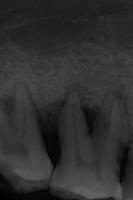Dental Caries: (36, 99, 66, 140), (61, 81, 89, 103), (82, 103, 99, 133), (104, 86, 126, 100)
Endo-Periodontal Lesion: (0, 96, 17, 115)
